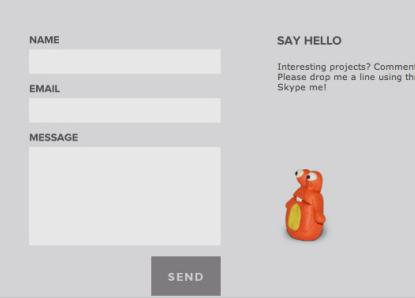button: (150, 255, 222, 298)
field: (27, 145, 223, 246), (26, 46, 222, 76), (27, 97, 222, 124)
field_with_label: (25, 132, 225, 248), (24, 82, 225, 126), (25, 34, 224, 78)
